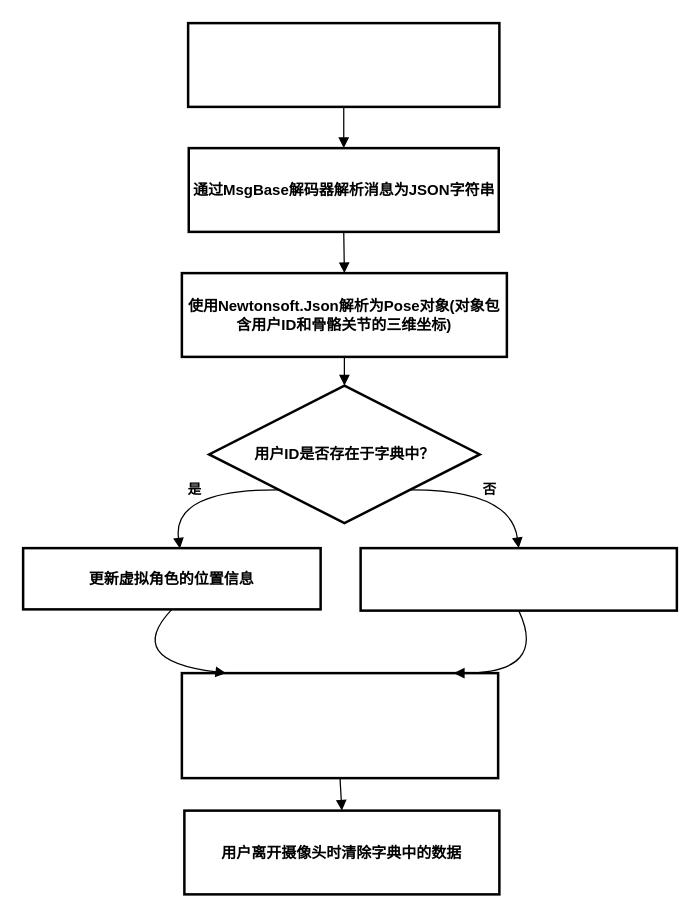
The diagram is 699 pixels wide and 916 high, and some of its shapes have lost their labels. Each missing label, with the centre of its shape:
"创建新虚拟角色并添加到字典中" belongs at pixel 518 578.
"服务器通过TCP套接字发送骨骼位置信息" belongs at pixel 343 64.
"通过PlayerManager.StepJson将数据传递给虚拟角色模型同步给虚拟角色" belongs at pixel 339 725.
